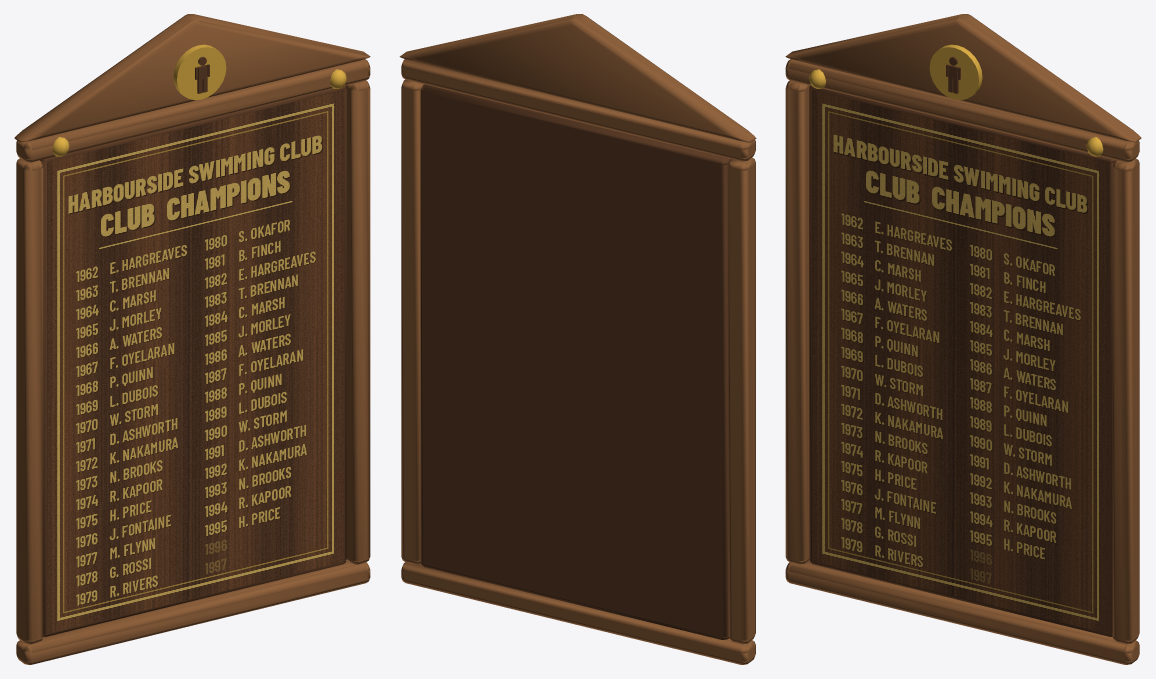
File: honours_board.glb
3 views of the same model, side by side, from view 1: azimuth 30°, elevation 25°; view 2: azimuth 150°, elevation 25°; view 3: azimuth 330°, elevation 25° (orthographic).
Parts seen in each view (by area): view 1: HonoursBoardBody; view 2: HonoursBoardBody; view 3: HonoursBoardBody.
Boxes of the visible parts, left/top/right/bottom form: HonoursBoardBody: left=14, top=14, right=370, bottom=664; HonoursBoardBody: left=399, top=14, right=756, bottom=664; HonoursBoardBody: left=785, top=14, right=1141, bottom=664.
Size of the model in its own units: 0.7088 by 1.17 by 0.058.
Materials: 4 (1 with a texture image).
